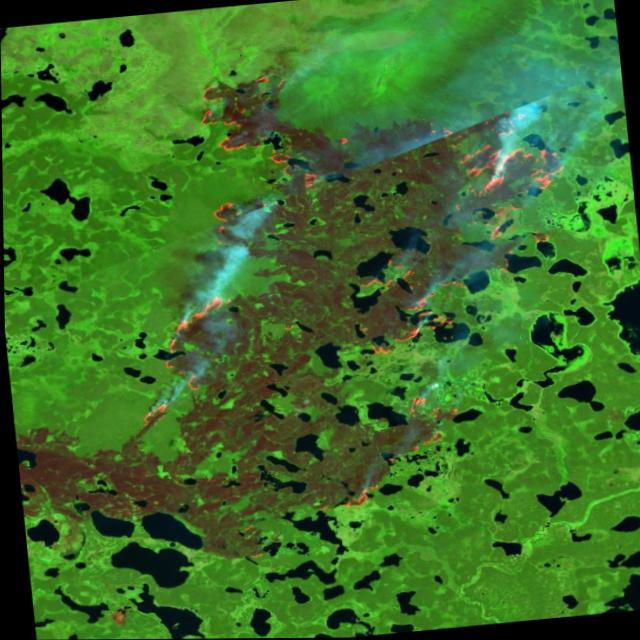fire: (104, 67, 345, 425), (328, 101, 589, 365), (379, 388, 465, 460), (318, 468, 390, 519)
